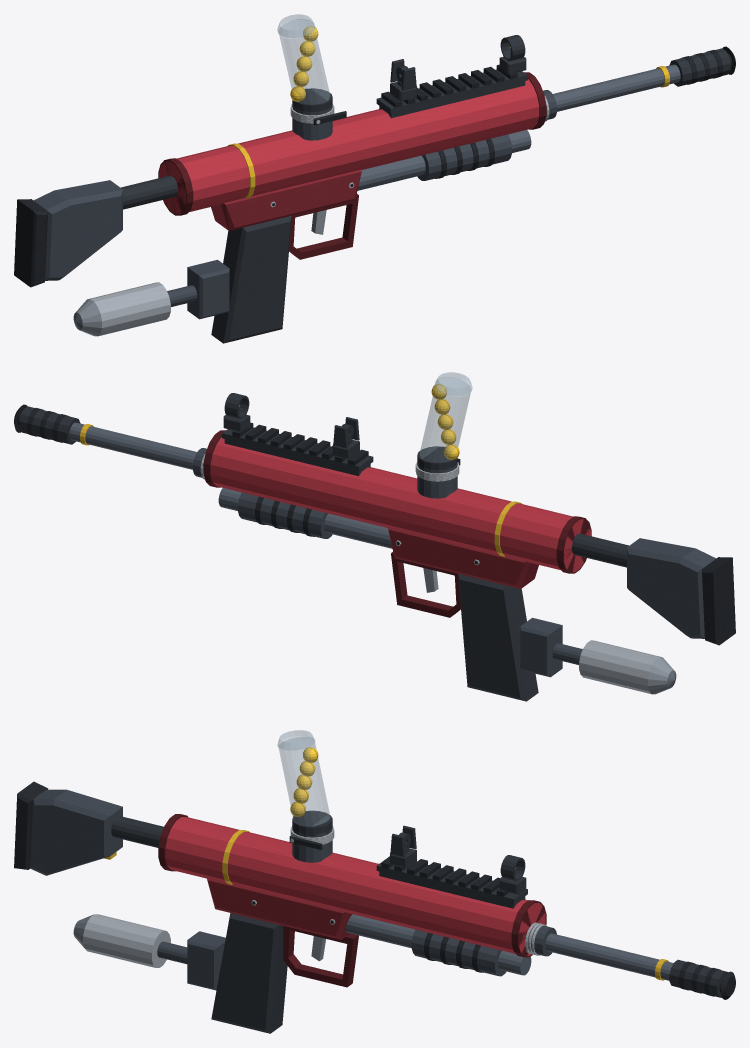
The model's file is phantom_factory_v2.glb.
The picture shows the model from 3 angles, top to bottom: view 1: azimuth 30°, elevation 25°; view 2: azimuth 150°, elevation 25°; view 3: azimuth 330°, elevation 25°; orthographic projection.
Visible parts, largest first — view 1: body, stock, barrel, tank, hopper_shell, sight_mesh; view 2: body, stock, barrel, tank, hopper_shell, sight_mesh; view 3: body, stock, barrel, tank, hopper_shell, sight_mesh.
Boxes of the visible parts, left/top/right/bottom form: body: left=158, top=64, right=546, bottom=343; stock: left=14, top=175, right=177, bottom=287; barrel: left=543, top=46, right=735, bottom=121; tank: left=73, top=282, right=197, bottom=336; hopper_shell: left=277, top=14, right=332, bottom=112; sight_mesh: left=390, top=35, right=526, bottom=101; body: left=203, top=422, right=591, bottom=701; stock: left=572, top=533, right=735, bottom=645; barrel: left=14, top=404, right=206, bottom=479; tank: left=552, top=640, right=676, bottom=694; hopper_shell: left=417, top=372, right=472, bottom=471; sight_mesh: left=223, top=393, right=359, bottom=459; body: left=158, top=814, right=546, bottom=1033; stock: left=14, top=781, right=163, bottom=875; barrel: left=525, top=922, right=735, bottom=999; tank: left=73, top=914, right=187, bottom=967; hopper_shell: left=277, top=730, right=332, bottom=835; sight_mesh: left=390, top=825, right=526, bottom=894.
Bounding box in the file's own units: 0.8865 × 0.3582 × 0.0618.
19 materials, 15 textured.
